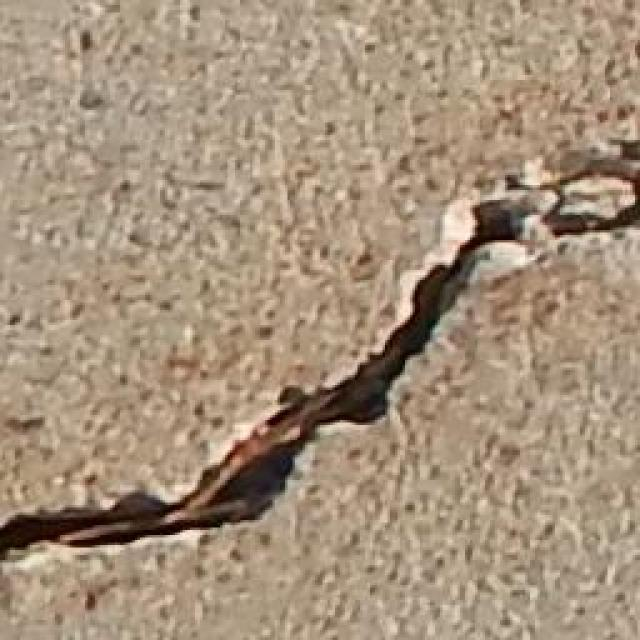concrete-crack: (1, 137, 640, 578)
